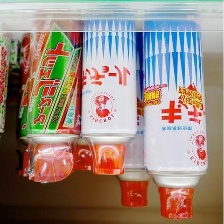aerosol_cans: (140, 0, 211, 222), (107, 25, 167, 213), (22, 4, 84, 185), (78, 1, 141, 179), (13, 25, 63, 181)
